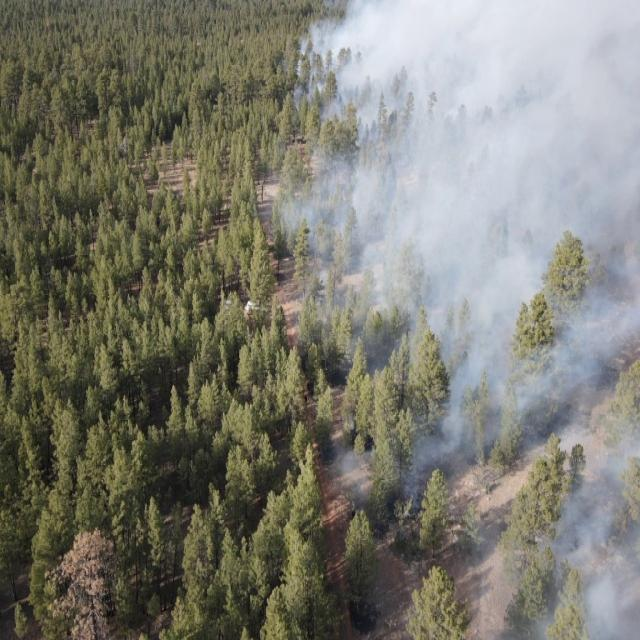smoke: (297, 3, 640, 456), (464, 455, 640, 640), (336, 456, 434, 510)
